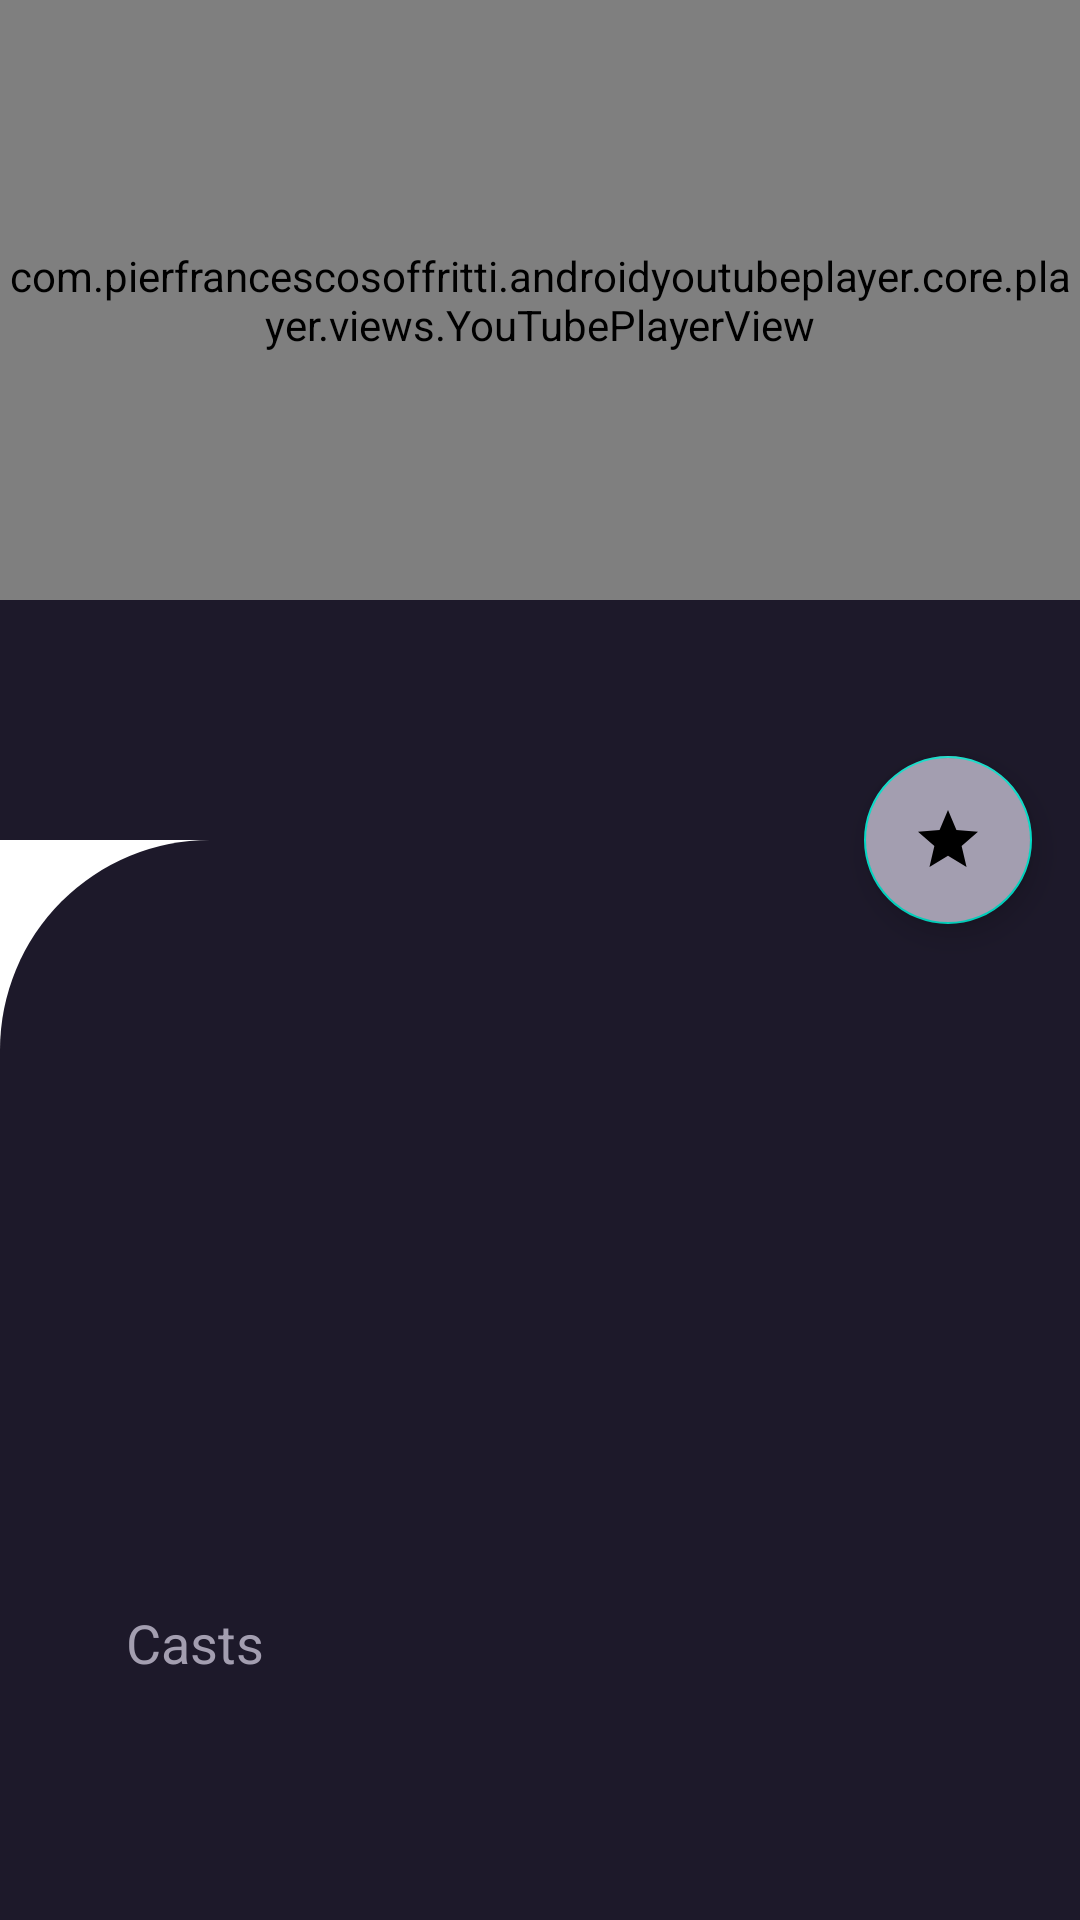

Where icons sit on this 1080 x 1920 app screen, as (x1, y1, x2, y2):
favorites star: (864, 756, 1032, 924)
